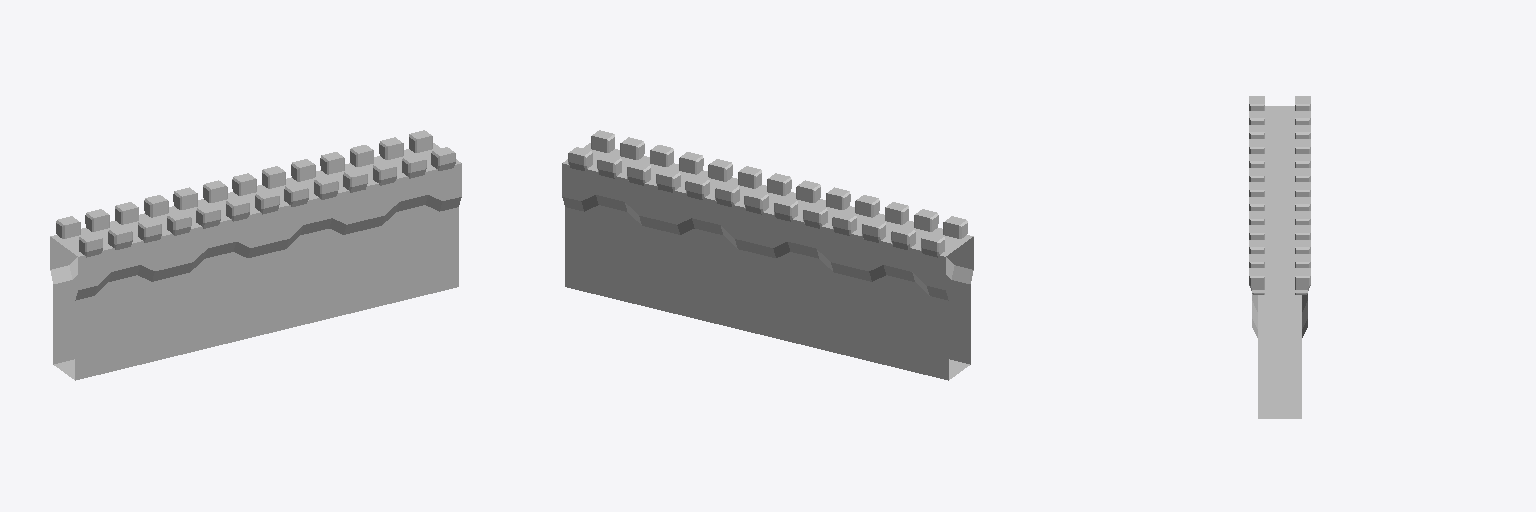
The model's file is castle_wall.obj.
3 views of the same model, side by side, from view 1: azimuth 30°, elevation 25°; view 2: azimuth 150°, elevation 25°; view 3: azimuth 270°, elevation 25° (orthographic).
Visible parts, largest first — view 1: BaseWall_Cube.009, Cube_Cube.002; view 2: BaseWall_Cube.009, Cube_Cube.002; view 3: BaseWall_Cube.009, Cube_Cube.002.
Part boxes in pixels (x1,y1,x2,y2): BaseWall_Cube.009: (50,143,461,380); Cube_Cube.002: (56,130,455,257); BaseWall_Cube.009: (562,143,973,380); Cube_Cube.002: (568,130,967,257); BaseWall_Cube.009: (1252,106,1307,418); Cube_Cube.002: (1249,96,1310,294).
Bounding box in the file's own units: 28 × 9.75 × 3.86.